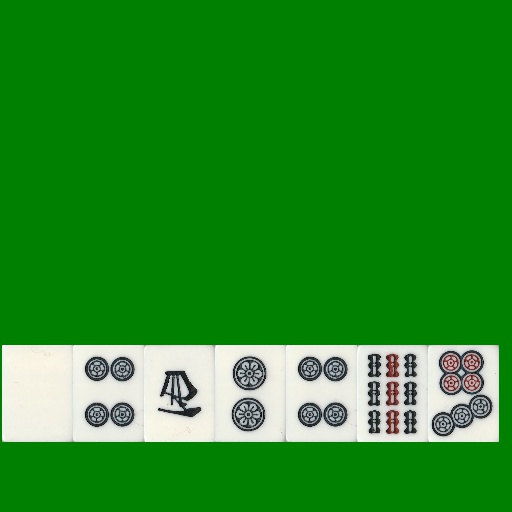2p: (215, 345, 286, 442)
4p: (73, 345, 144, 442), (286, 345, 357, 442)
7p: (428, 345, 499, 442)
9s: (357, 345, 428, 442)
west: (144, 345, 215, 442)
white: (2, 345, 73, 442)
